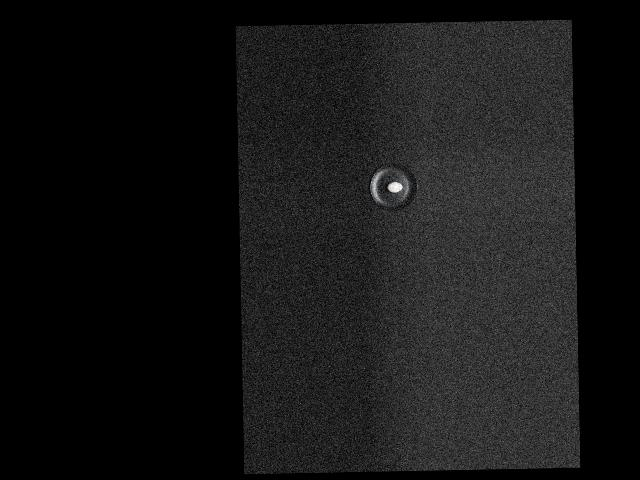egg: (387, 182, 402, 193)
